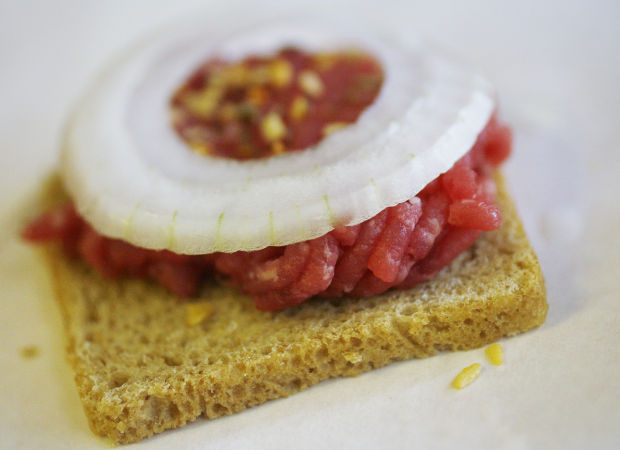ground_beef: (108, 220, 494, 304), (196, 48, 356, 144)
